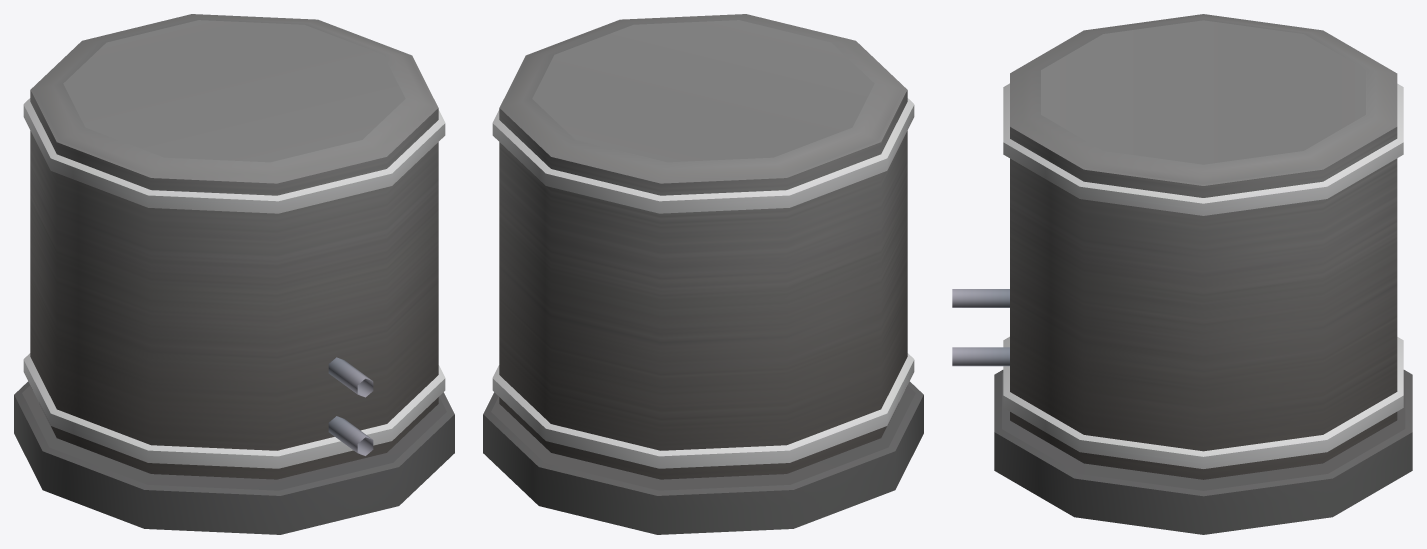
Rendered from GasTank_2_A.glb.
3 renders of one model, left to right at view 1: azimuth 30°, elevation 25°; view 2: azimuth 150°, elevation 25°; view 3: azimuth 270°, elevation 25°, orthographic.
Visible parts, largest first — view 1: GasTank_2_A; view 2: GasTank_2_A; view 3: GasTank_2_A.
Boxes of the visible parts, x1,y1,x2,y2 form: GasTank_2_A: [14, 14, 454, 534]; GasTank_2_A: [483, 14, 923, 534]; GasTank_2_A: [952, 14, 1412, 534].
Size of the model in its own units: 9 by 7.9 by 9.42.
Materials: 2 (2 with a texture image).
